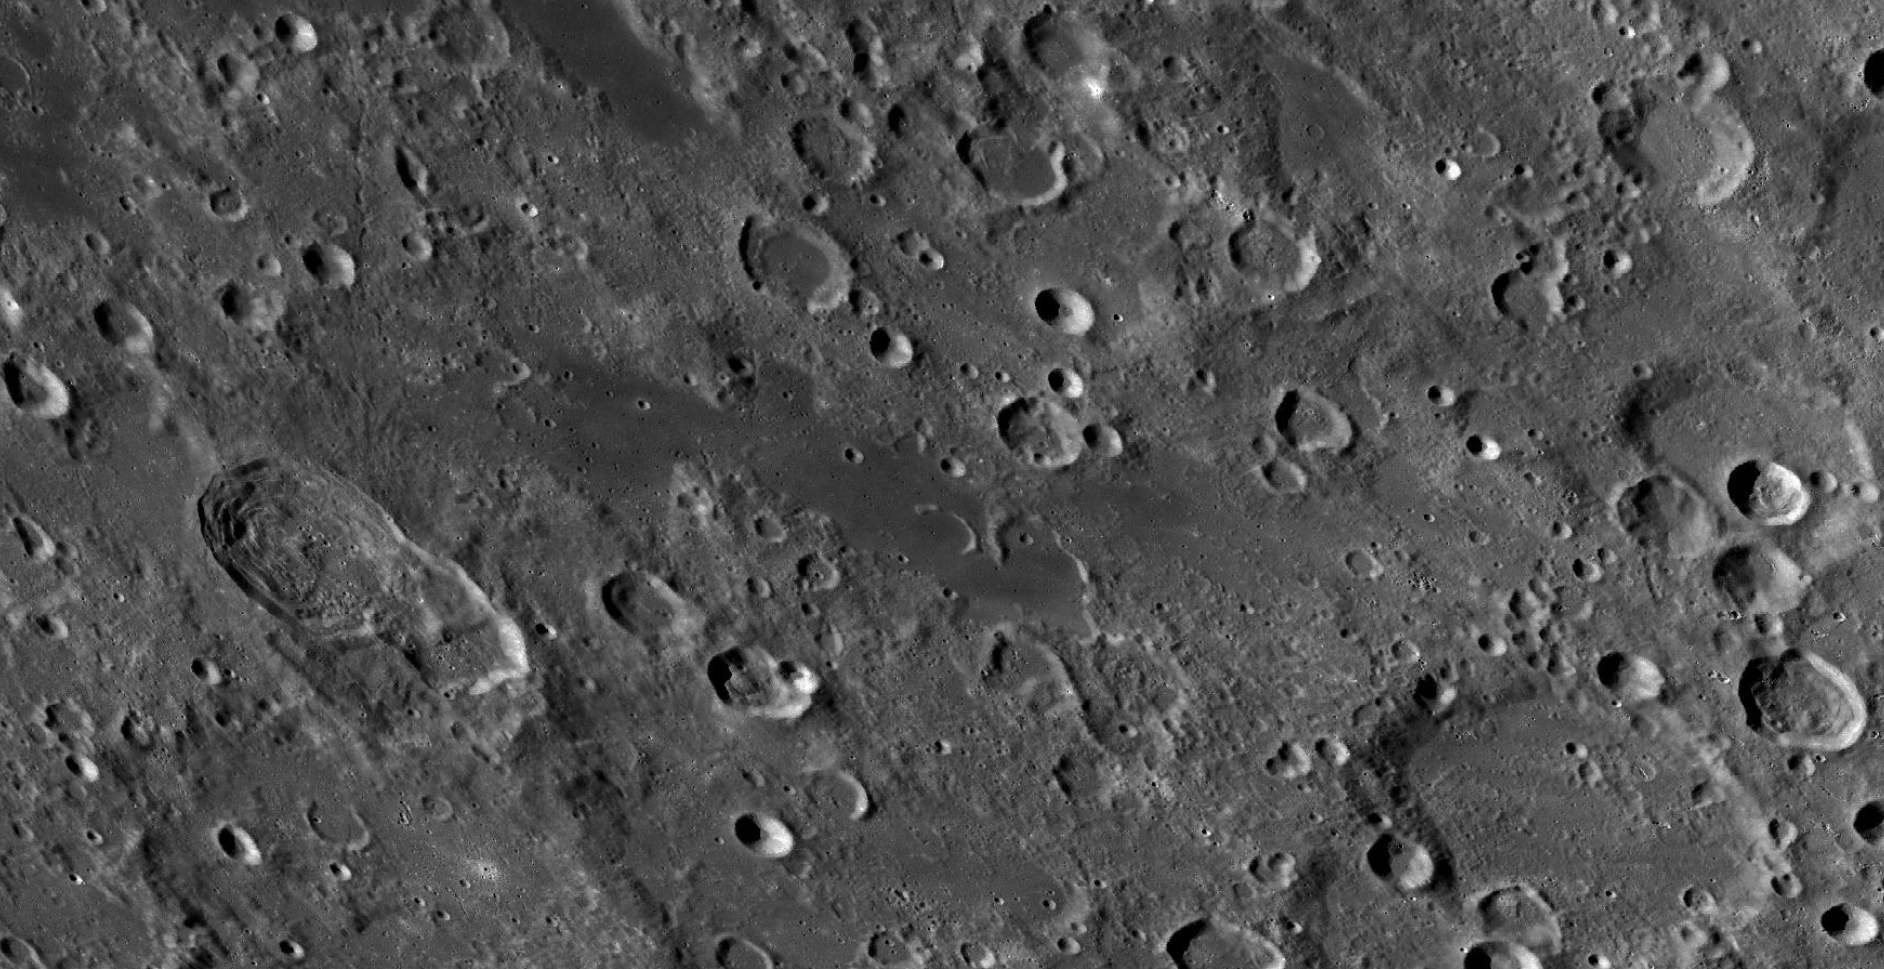crater: (182, 447, 553, 722), (1576, 44, 1762, 218), (717, 203, 852, 332), (1209, 195, 1331, 305), (583, 559, 705, 661), (1008, 242, 1112, 355), (709, 802, 812, 878), (1327, 520, 1410, 598), (392, 227, 460, 288)
